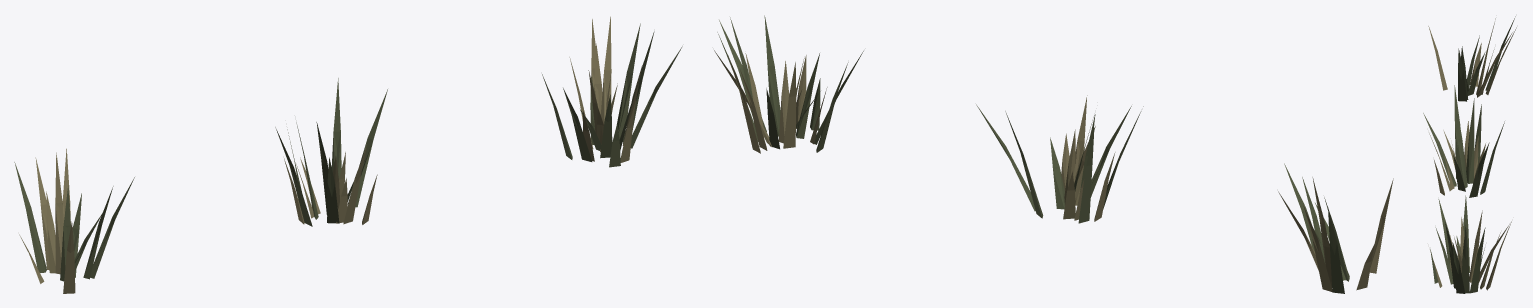
Rendered from grass_tuft.glb.
3 views of the same model, side by side, from view 1: azimuth 30°, elevation 25°; view 2: azimuth 150°, elevation 25°; view 3: azimuth 270°, elevation 25° (orthographic). The views are drawn at different scales.
Parts seen in each view (by area): view 1: Prop_GrassDark_ns.002, Prop_GrassDark_ns.001, Prop_GrassDry_ns, Prop_GrassDark_ns, Prop_GrassDry_ns.002, Prop_GrassDry_ns.001; view 2: Prop_GrassDark_ns.002, Prop_GrassDry_ns.002, Prop_GrassDark_ns.001, Prop_GrassDry_ns, Prop_GrassDry_ns.001, Prop_GrassDark_ns; view 3: Prop_GrassDark_ns.001, Prop_GrassDark_ns.002, Prop_GrassDry_ns.002, Prop_GrassDark_ns, Prop_GrassDry_ns, Prop_GrassDry_ns.001.
Boxes of the visible parts, x1,y1,x2,y2 form: Prop_GrassDark_ns.002: (542,23,682,167); Prop_GrassDark_ns.001: (275,78,387,226); Prop_GrassDry_ns: (19,148,75,293); Prop_GrassDark_ns: (14,162,134,281); Prop_GrassDry_ns.002: (569,16,642,162); Prop_GrassDry_ns.001: (284,145,377,224); Prop_GrassDark_ns.002: (717,15,863,152); Prop_GrassDry_ns.002: (714,50,827,153); Prop_GrassDark_ns.001: (976,104,1143,223); Prop_GrassDry_ns: (1278,177,1393,291); Prop_GrassDry_ns.001: (1061,95,1115,221); Prop_GrassDark_ns: (1284,163,1349,293); Prop_GrassDark_ns.001: (1423,85,1504,197); Prop_GrassDark_ns.002: (1430,195,1485,293); Prop_GrassDry_ns.002: (1430,210,1511,290); Prop_GrassDark_ns: (1458,16,1515,101); Prop_GrassDry_ns: (1428,18,1516,97); Prop_GrassDry_ns.001: (1429,121,1485,195).
Size of the model in its own units: 3.61 by 0.5972 by 0.6336.
